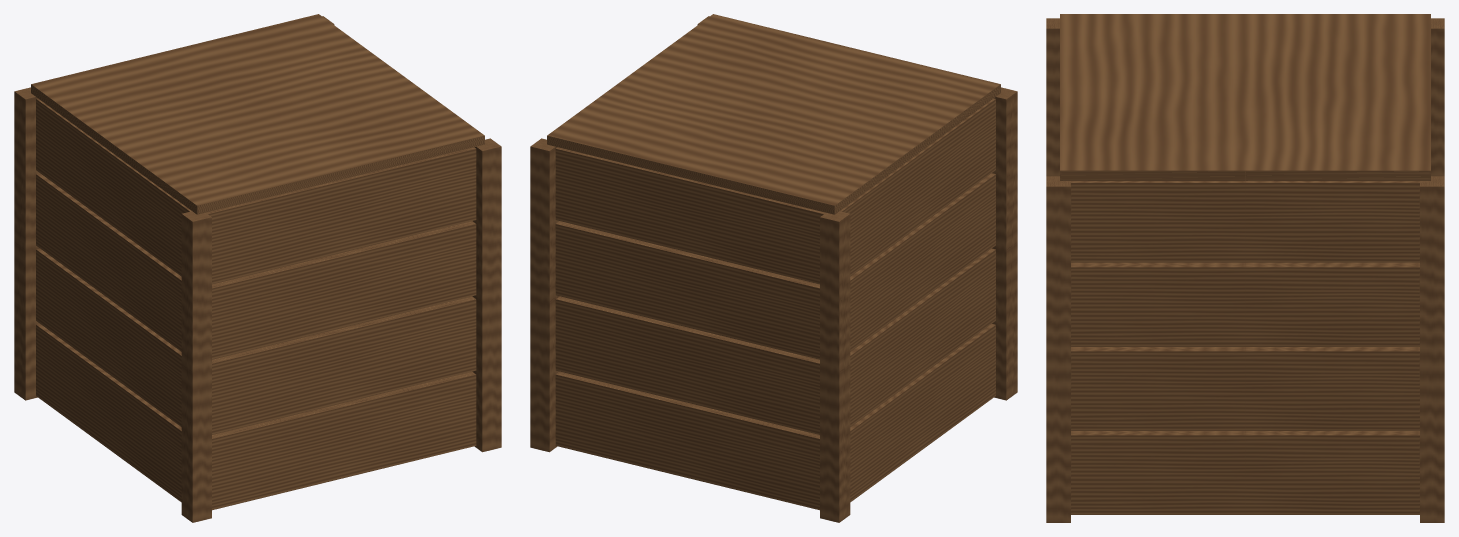
File: crate_L2.glb
The picture shows the model from 3 angles, left to right: view 1: azimuth 30°, elevation 25°; view 2: azimuth 150°, elevation 25°; view 3: azimuth 270°, elevation 25°; orthographic projection. The views are drawn at different scales.
Parts seen in each view (by area): view 1: crate:plank; view 2: crate:plank; view 3: crate:plank.
Part boxes in pixels (x1,y1,x2,y2): crate:plank: (14,14,501,522); crate:plank: (530,14,1017,522); crate:plank: (1046,14,1444,522).
Size of the model in its own units: 0.644 by 0.618 by 0.644.
1 material, 1 textured.
